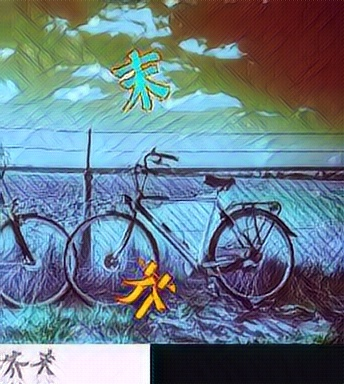BDE6: (116, 255, 179, 321)
C4A9: (108, 49, 171, 115)
